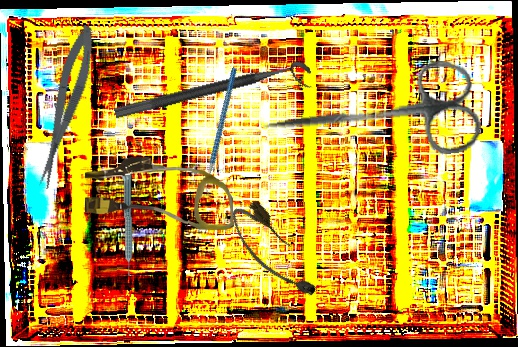Cannula: (223, 194, 324, 311), (84, 155, 234, 233)
Chopper: (167, 67, 278, 199)
Fixation Ring: (113, 58, 315, 136)
Handpiece: (118, 158, 134, 277)
Iris Scissors: (258, 57, 484, 176)
Micro Scissor: (27, 22, 103, 192)
